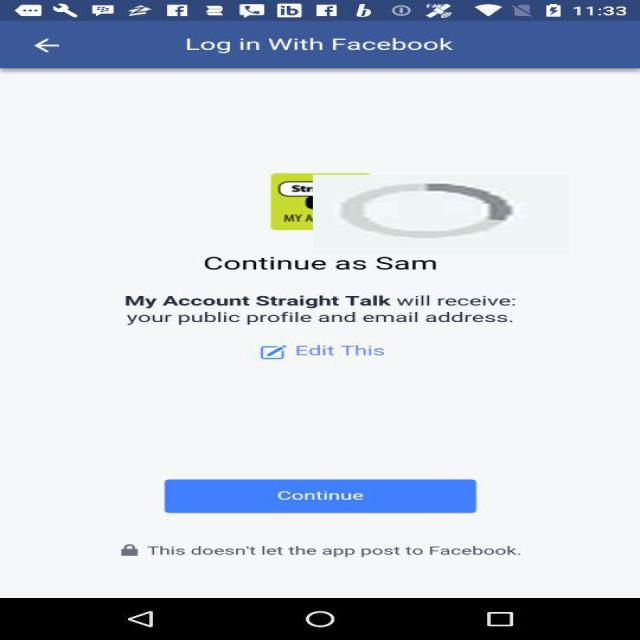misdirection: (313, 174, 569, 254)
